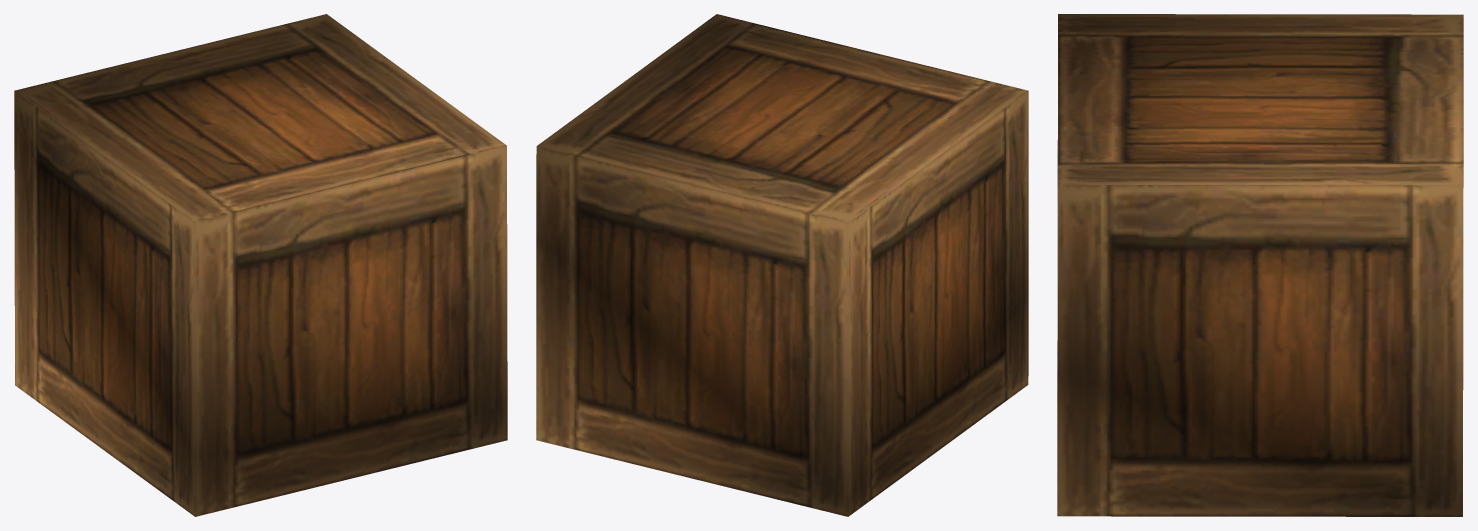
File: environment_common_muxiang_001_a.FBX
3 views of the same model, side by side, from view 1: azimuth 30°, elevation 25°; view 2: azimuth 150°, elevation 25°; view 3: azimuth 270°, elevation 25° (orthographic). The views are drawn at different scales.
Parts seen in each view (by area): view 1: environment_common_muxiang_001_a; view 2: environment_common_muxiang_001_a; view 3: environment_common_muxiang_001_a.
Boxes of the visible parts, x1,y1,x2,y2 form: environment_common_muxiang_001_a: (14,14,507,516); environment_common_muxiang_001_a: (536,14,1028,516); environment_common_muxiang_001_a: (1057,14,1463,516).
Bounding box in the file's own units: 102 × 91.64 × 102.
1 material, 1 textured.
